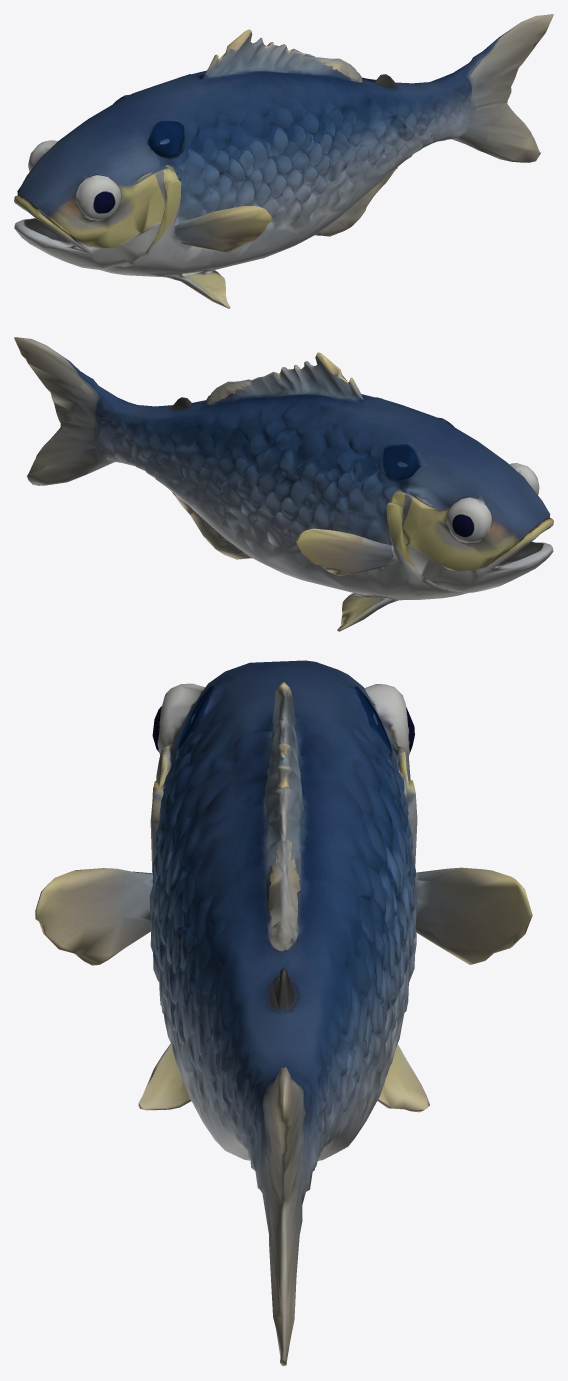
File: fish-dorado.glb
The picture shows the model from 3 angles, top to bottom: view 1: azimuth 30°, elevation 25°; view 2: azimuth 150°, elevation 25°; view 3: azimuth 270°, elevation 25°; orthographic projection. The views are drawn at different scales.
Visible parts, largest first — view 1: tripo_node_eeeb045f-c9d9-475c-ba9b-24cf0ab7e19c; view 2: tripo_node_eeeb045f-c9d9-475c-ba9b-24cf0ab7e19c; view 3: tripo_node_eeeb045f-c9d9-475c-ba9b-24cf0ab7e19c.
Boxes of the visible parts, x1,y1,x2,y2 form: tripo_node_eeeb045f-c9d9-475c-ba9b-24cf0ab7e19c: [14, 14, 553, 308]; tripo_node_eeeb045f-c9d9-475c-ba9b-24cf0ab7e19c: [14, 337, 553, 631]; tripo_node_eeeb045f-c9d9-475c-ba9b-24cf0ab7e19c: [35, 660, 532, 1366].
Bounding box in the file's own units: 0.9999 × 0.4298 × 0.4032.
1 material, 1 textured.
